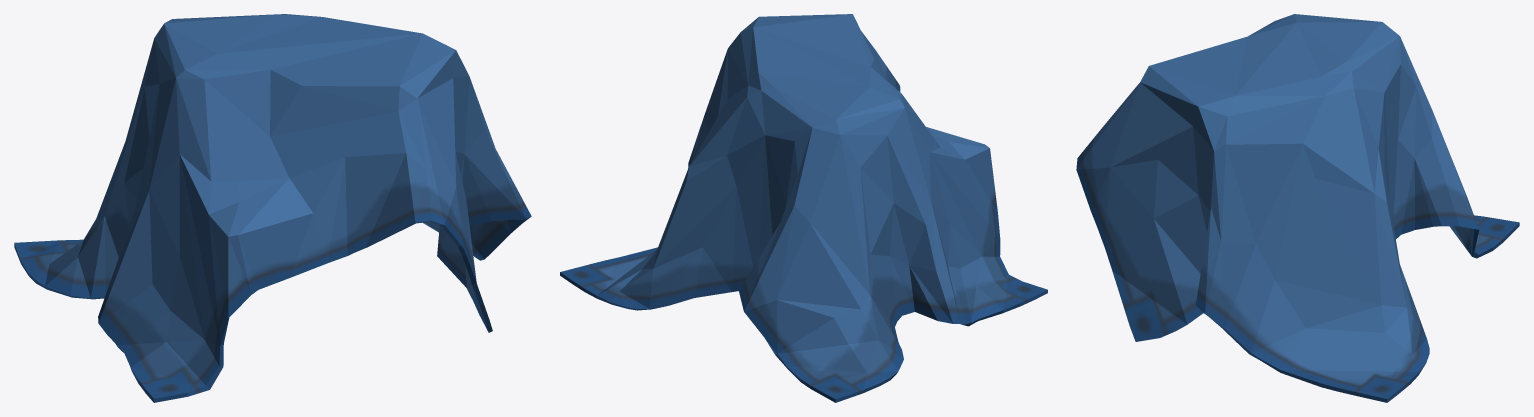
The model's file is SM_Prop_CardboardBox_Stack_03_Tarp.fbx.
The picture shows the model from 3 angles, left to right: view 1: azimuth 30°, elevation 25°; view 2: azimuth 150°, elevation 25°; view 3: azimuth 270°, elevation 25°; orthographic projection. The views are drawn at different scales.
Parts seen in each view (by area): view 1: SM_Prop_CardboardBox_Stack_03_Tarp; view 2: SM_Prop_CardboardBox_Stack_03_Tarp; view 3: SM_Prop_CardboardBox_Stack_03_Tarp.
Part boxes in pixels (x1,y1,x2,y2): SM_Prop_CardboardBox_Stack_03_Tarp: [14, 14, 531, 402]; SM_Prop_CardboardBox_Stack_03_Tarp: [560, 14, 1047, 402]; SM_Prop_CardboardBox_Stack_03_Tarp: [1076, 14, 1519, 402].
Bounding box in the file's own units: 283 × 159 × 263.
